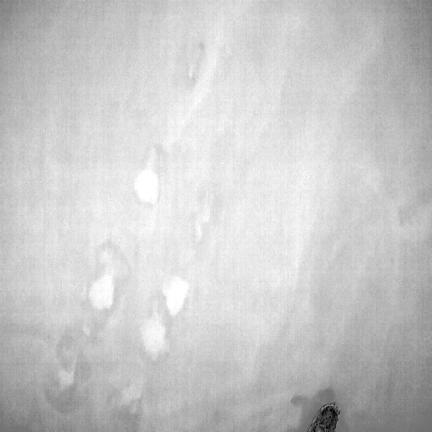flukeprints: (84, 239, 130, 317), (141, 300, 167, 359), (134, 148, 159, 205), (162, 276, 189, 317), (193, 198, 209, 242), (119, 384, 142, 410), (58, 368, 75, 390), (190, 49, 201, 79), (82, 320, 92, 335)
